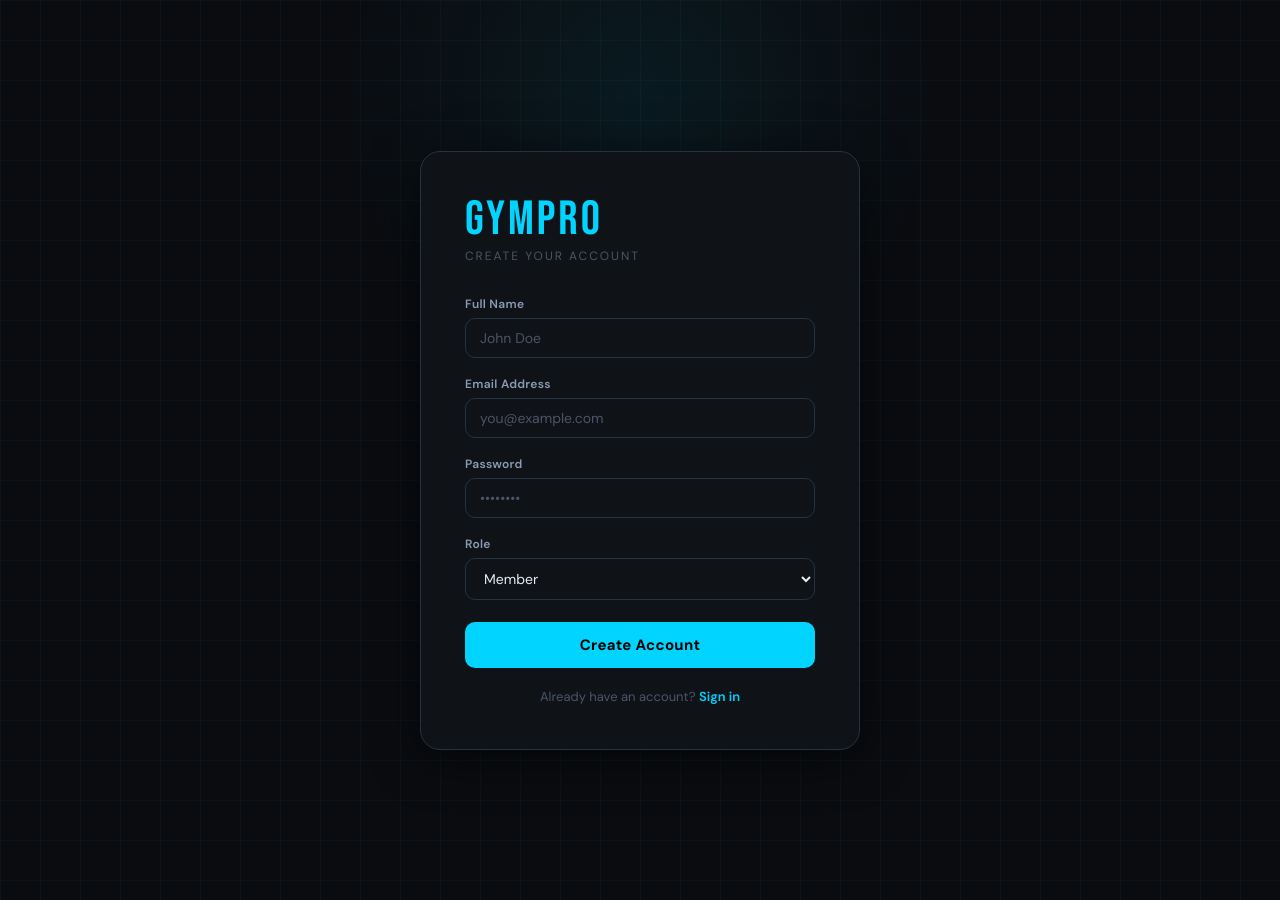
it: Register › shows error message on failed registration
In the field with placeholder "John Doe": (640, 338) [465,318,815,358], type "Bob"
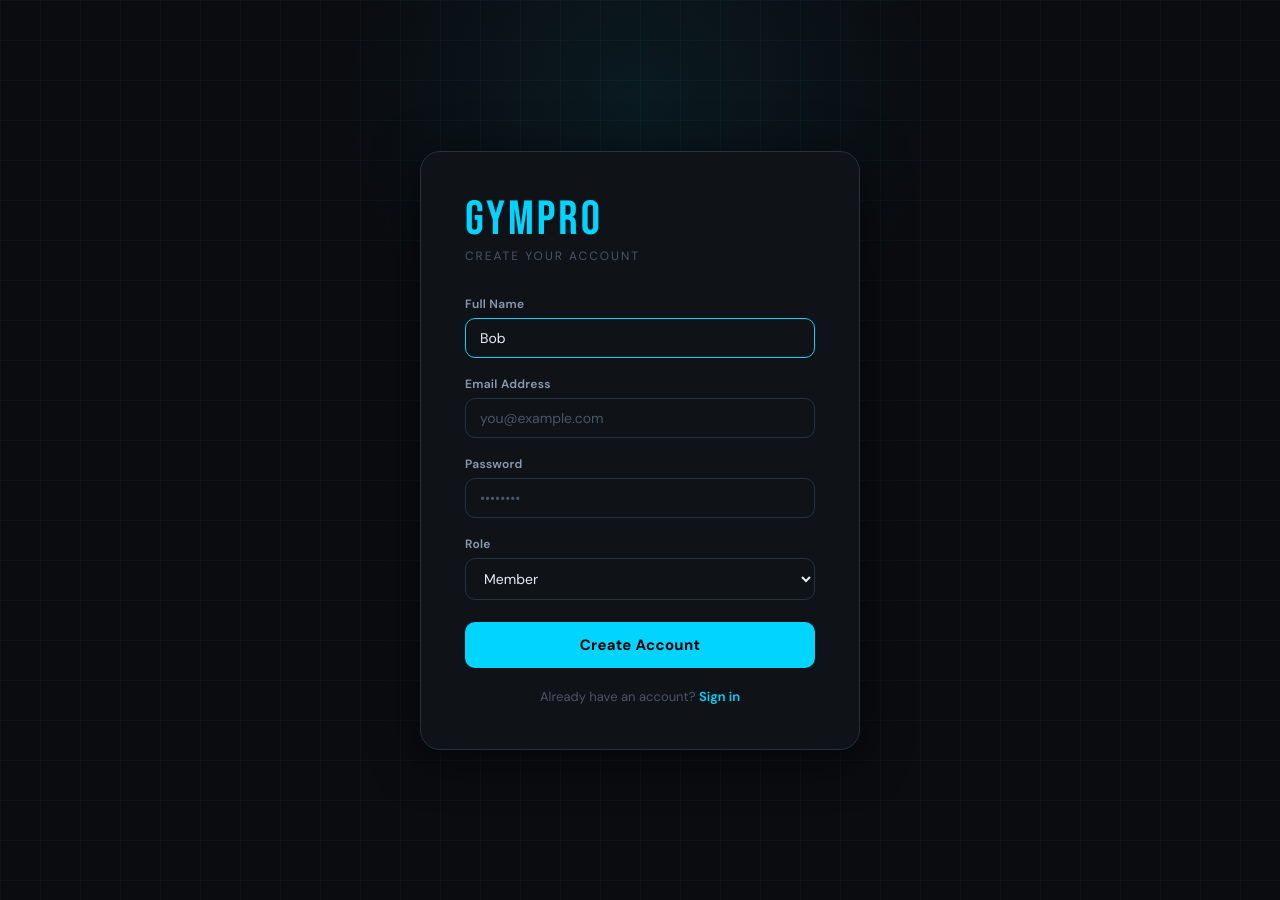
In the field with placeholder "you@example.com": (640, 418) [465,398,815,438], type "bob@gym.com"
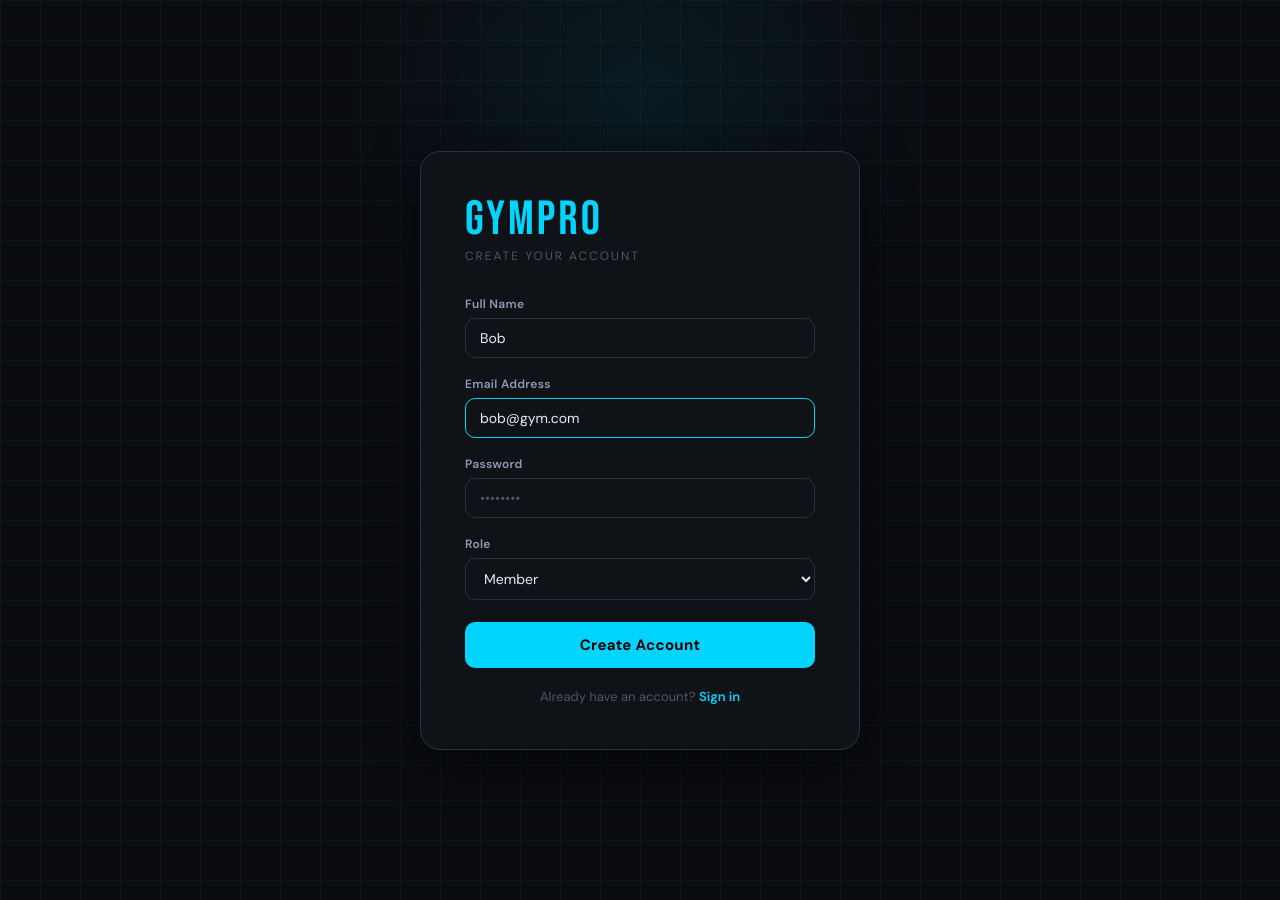
In the password field with placeholder "••••••••": (640, 498) [465,478,815,518], type "pass123"
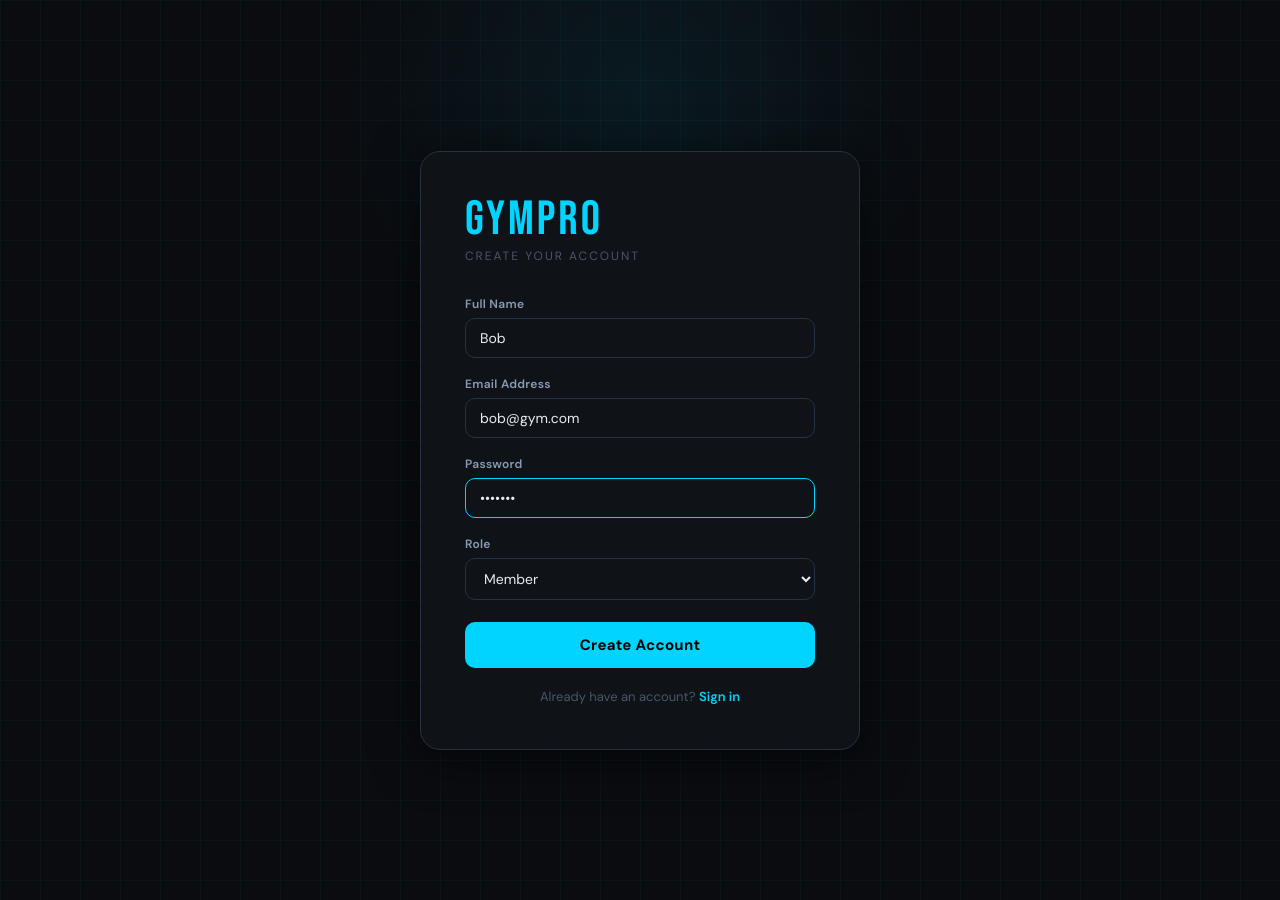
Click the button "Create Account": (640, 644) [465,622,815,668]
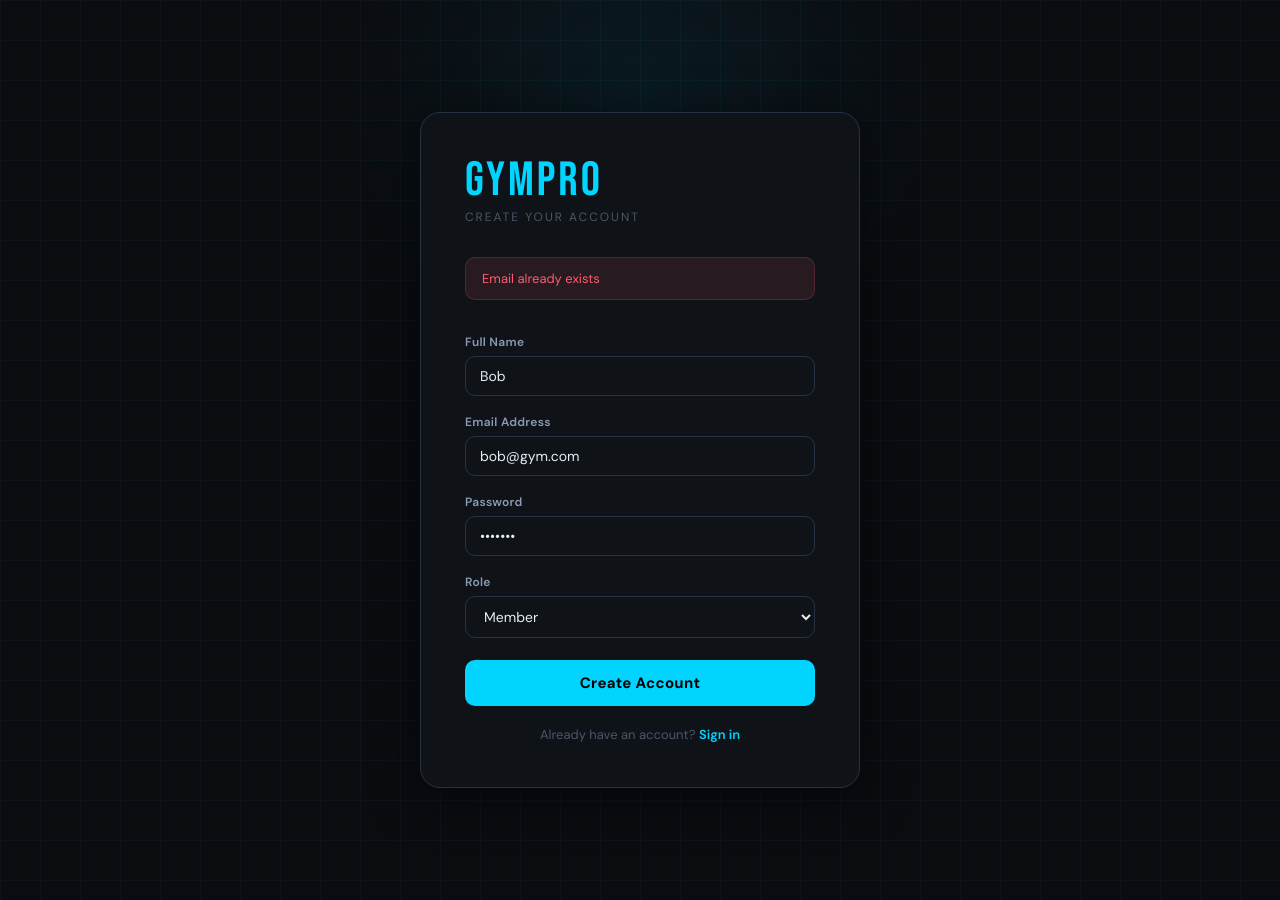
Expected: the text "Email already exists" is shown, [465,257,815,300]
